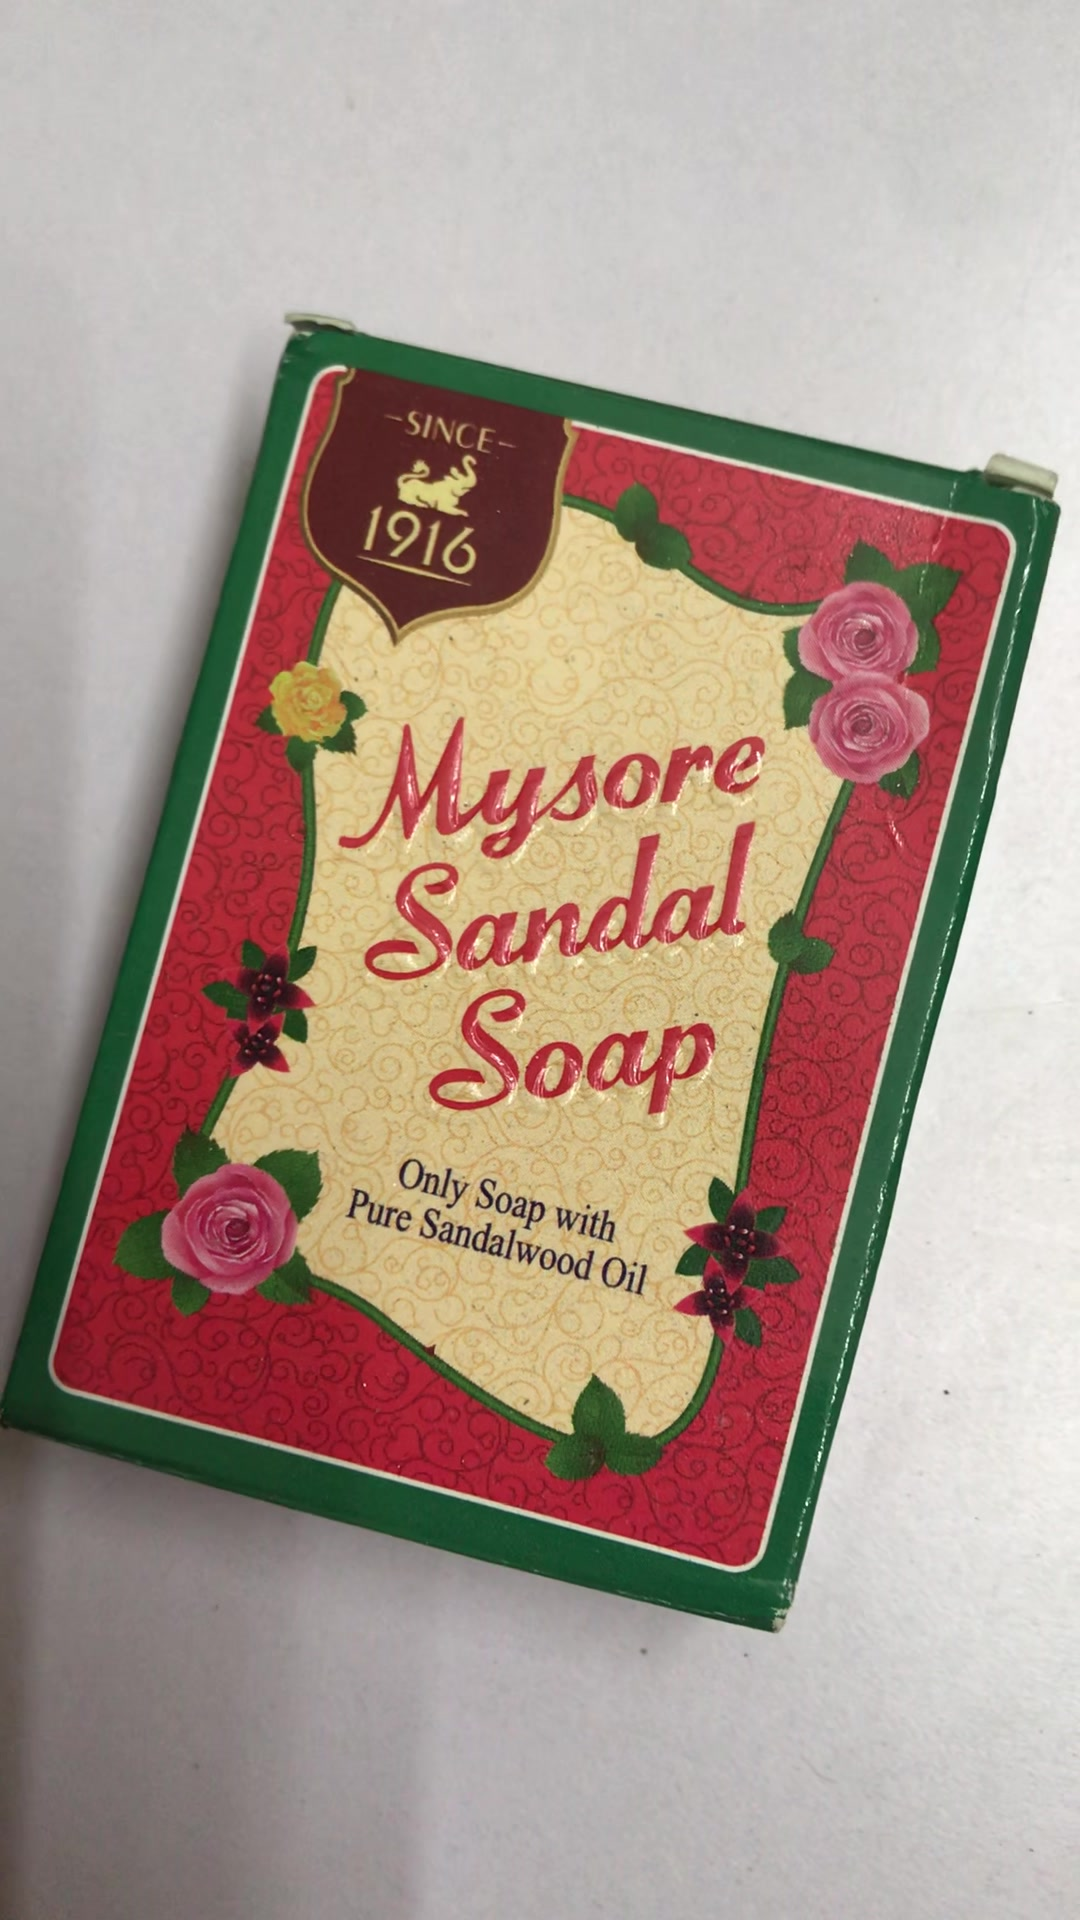mysore sandal soap: (5, 320, 1047, 1629)
